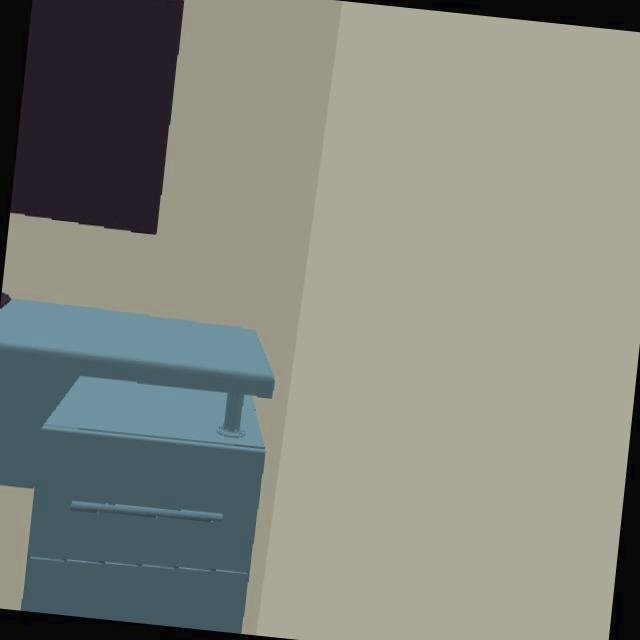cabinet: (23, 377, 264, 631)
monitor: (10, 0, 183, 232), (1, 293, 8, 307)
table: (0, 299, 274, 485)
